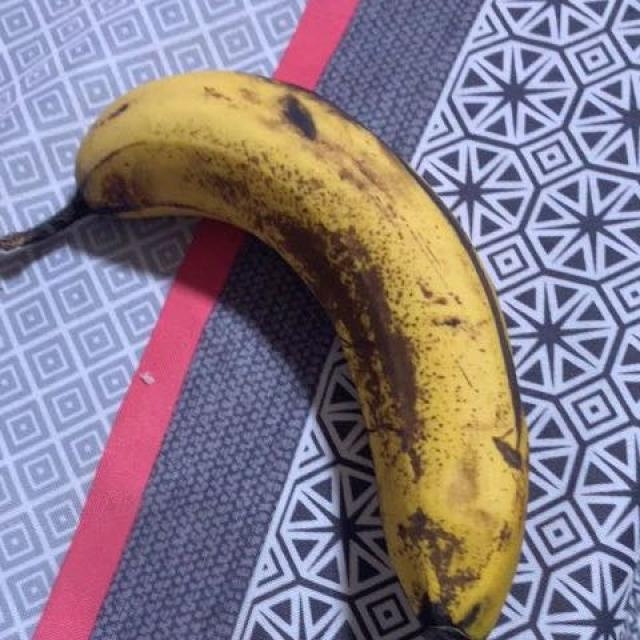Banana: (1, 54, 549, 640)
